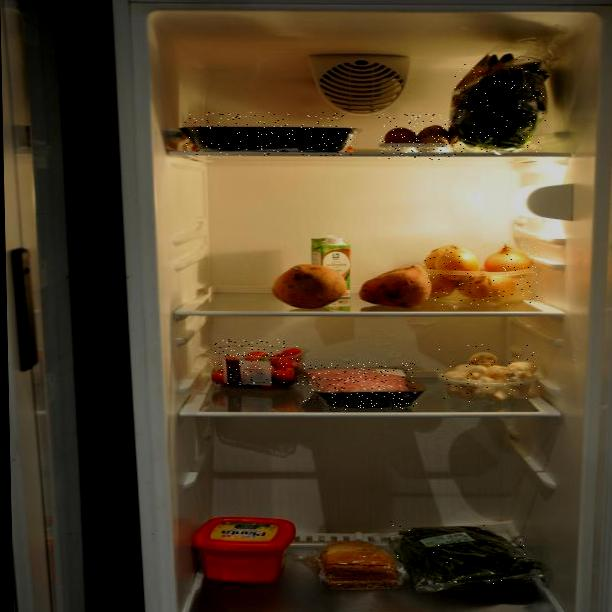eggs: (378, 114, 457, 160)
green beans: (390, 516, 540, 593)
meat: (183, 112, 353, 156), (302, 362, 417, 410)
mushroom: (435, 344, 540, 402)
onion: (424, 245, 539, 307)
spinach: (452, 59, 547, 152)
tomatoes: (215, 339, 299, 385)
